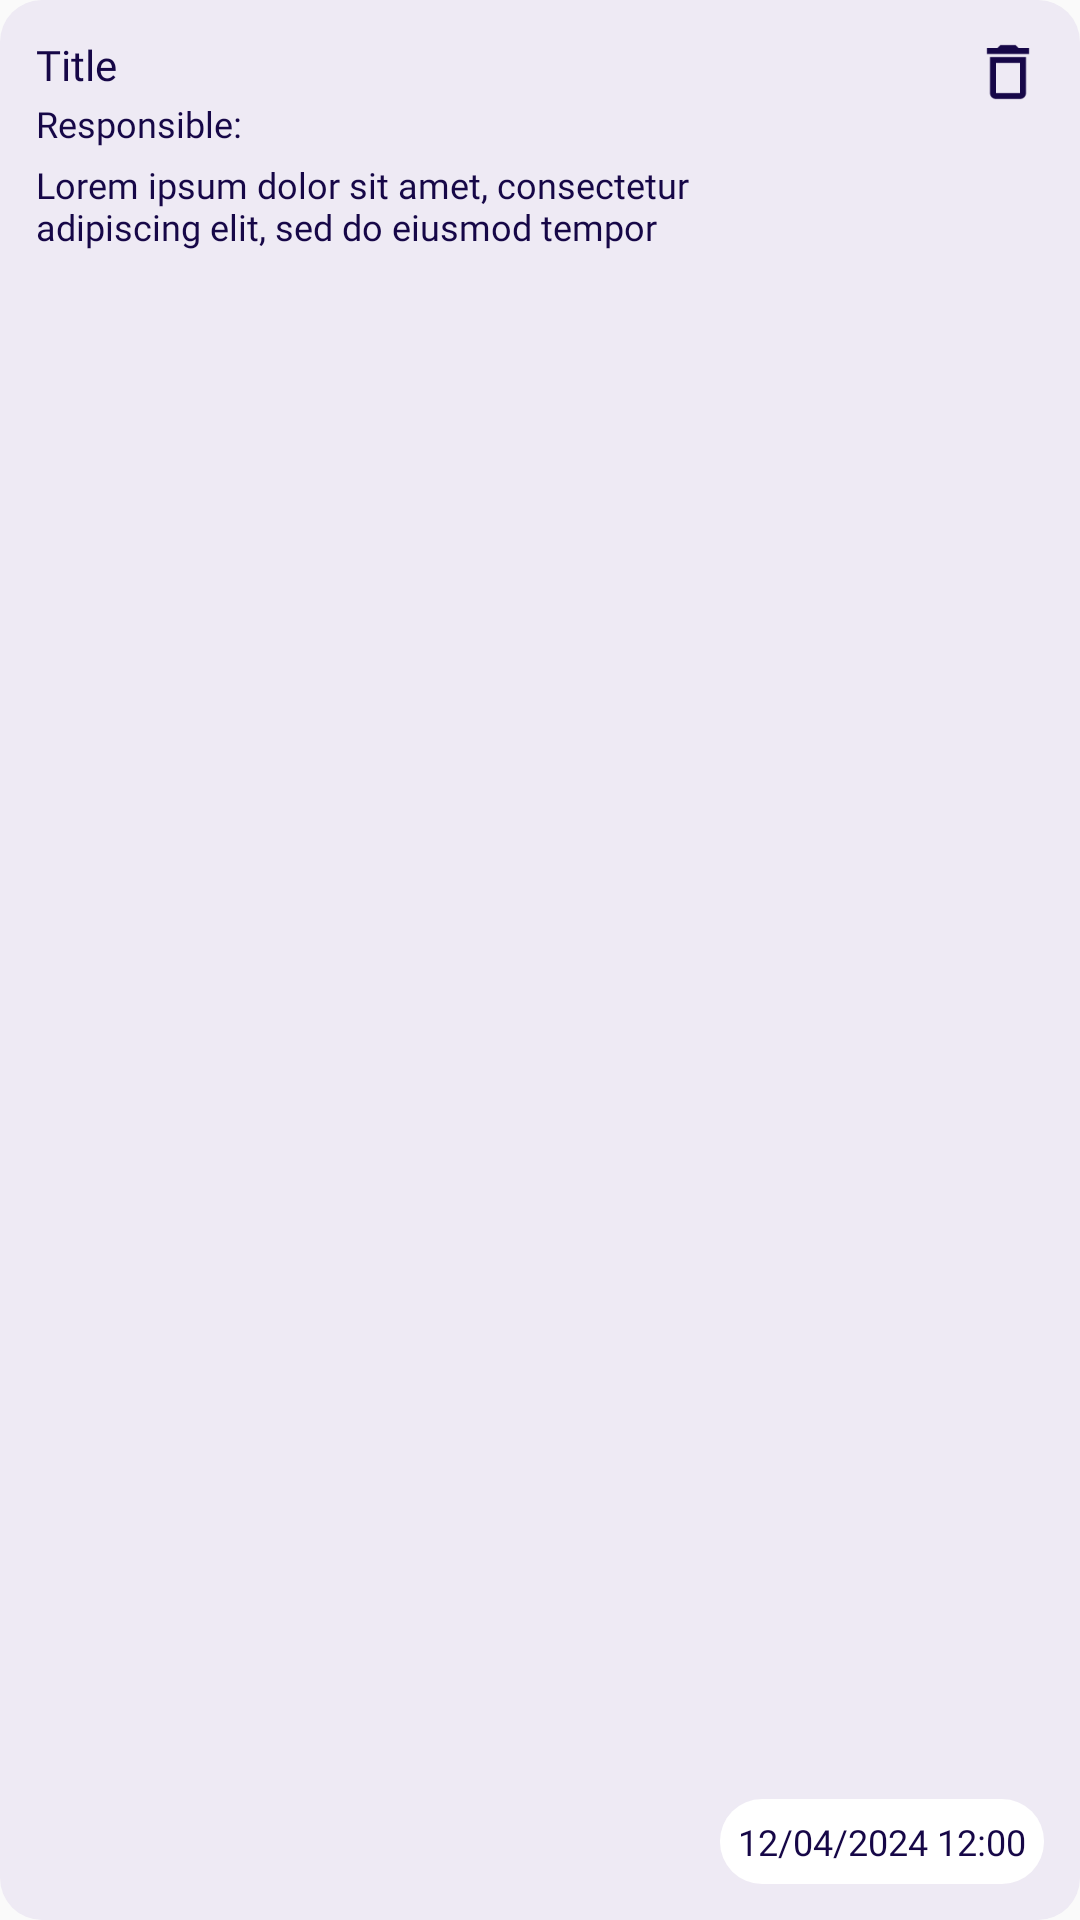

Screen size 1080 × 1920. Icon name, then its box in pixels as {"x1": x1, "y1": y1, "x2": x2, "y2": y2}:
Delete task: {"x1": 986, "y1": 45, "x2": 1030, "y2": 99}
